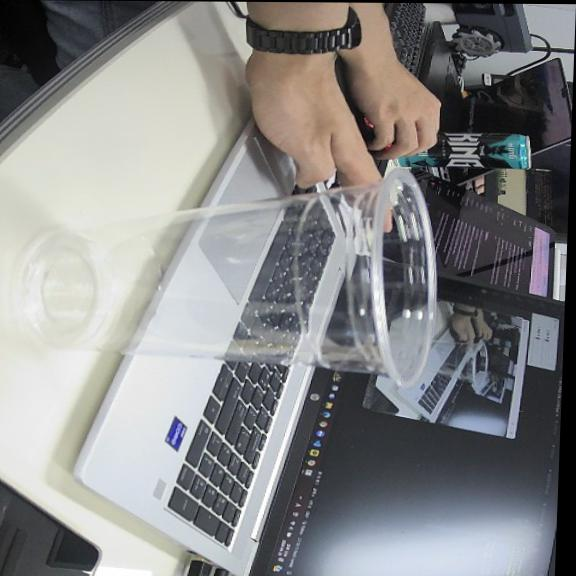Plastik: (24, 169, 434, 385)
